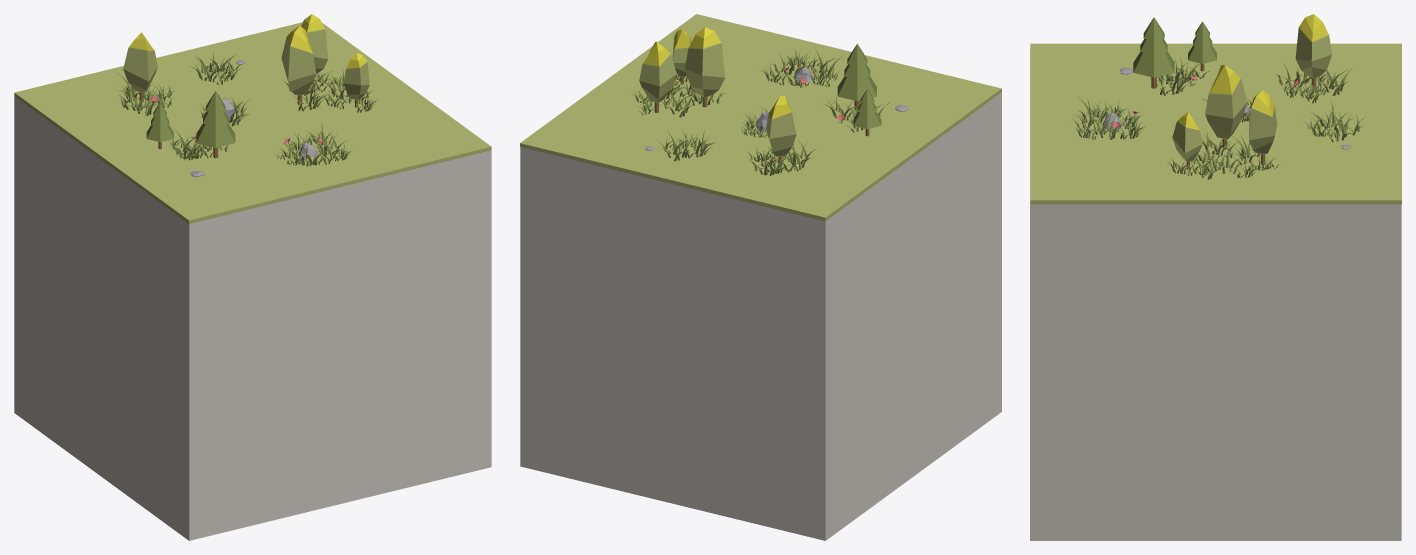
File: GrassLand2.fbx
3 views of the same model, side by side, from view 1: azimuth 30°, elevation 25°; view 2: azimuth 150°, elevation 25°; view 3: azimuth 270°, elevation 25° (orthographic). The views are drawn at different scales.
Visible parts, largest first — view 1: gras_2; view 2: gras_2; view 3: gras_2.
Part boxes in pixels (x1,y1,x2,y2): gras_2: [14, 14, 491, 540]; gras_2: [520, 14, 1001, 540]; gras_2: [1030, 14, 1401, 540].
Bounding box in the file's own units: 12 × 15.13 × 12.02.
